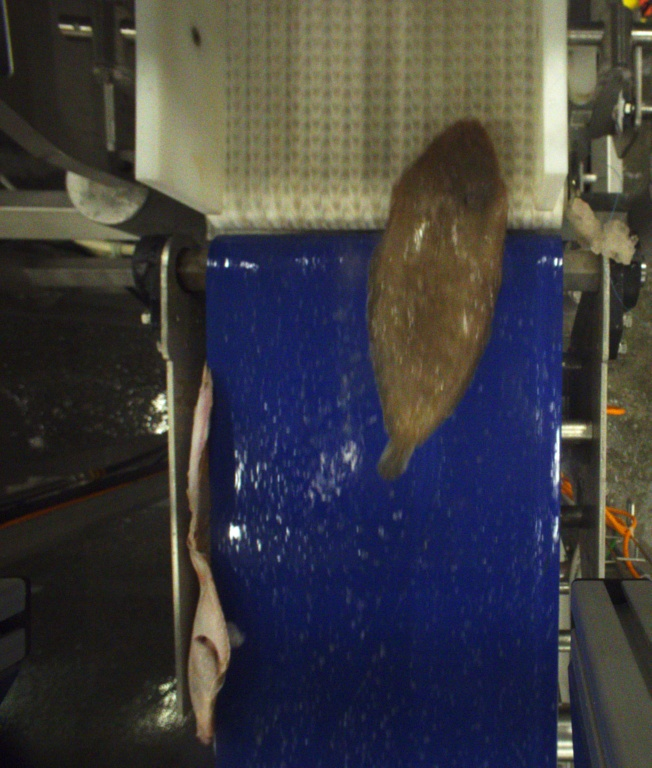SOL: (372, 120, 504, 486)
